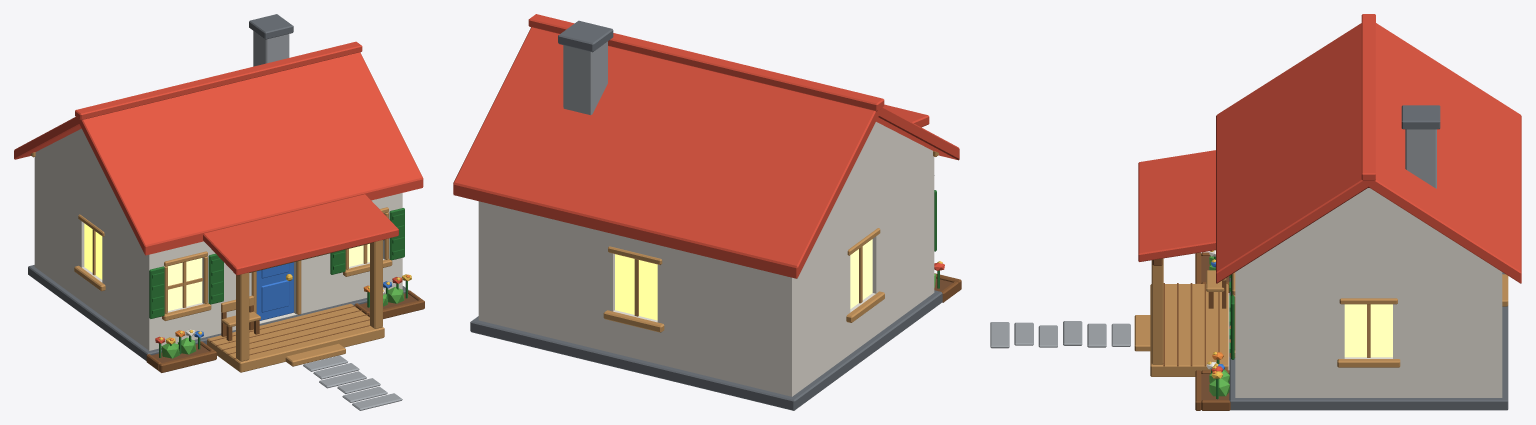
File: cozy-starter-house.glb
3 views of the same model, side by side, from view 1: azimuth 30°, elevation 25°; view 2: azimuth 150°, elevation 25°; view 3: azimuth 270°, elevation 25° (orthographic). The views are drawn at different scales.
Parts seen in each view (by area): view 1: Roof, Walls, PorchRoof, PorchDeck, RoofRidge, Gable, Foundation, WindowL_Glass, PorchPostL, PorchPostR, Chimney, Door (+16 smaller); view 2: Roof, Walls, Foundation, RoofRidge, Gable, Chimney, WindowBack_Glass, ChimneyCap, WindowSideL_Glass, WindowBack_Sill; view 3: Roof, Walls, Gable, PorchRoof, PorchDeck, Foundation, RoofRidge, WindowSideR_Glass, Chimney, PorchPostR, ChimneyCap, PorchStep (+4 smaller).
Boxes of the visible parts, left/top/right/bottom form: Roof: left=14, top=52, right=423, bottom=255; Walls: left=34, top=154, right=402, bottom=350; PorchRoof: left=203, top=194, right=398, bottom=275; PorchDeck: left=207, top=303, right=384, bottom=372; RoofRidge: left=75, top=41, right=362, bottom=120; Gable: left=35, top=128, right=127, bottom=220; Foundation: left=28, top=265, right=408, bottom=360; WindowL_Glass: left=168, top=258, right=202, bottom=310; PorchPostL: left=236, top=272, right=249, bottom=361; PorchPostR: left=370, top=240, right=382, bottom=328; Chimney: left=253, top=31, right=289, bottom=66; Door: left=256, top=262, right=293, bottom=320; Roof: left=453, top=27, right=959, bottom=278; Walls: left=478, top=153, right=934, bottom=396; Foundation: left=470, top=290, right=942, bottom=410; RoofRidge: left=528, top=14, right=884, bottom=111; Gable: left=819, top=122, right=932, bottom=235; Chimney: left=563, top=41, right=607, bottom=115; WindowBack_Glass: left=615, top=254, right=657, bottom=320; ChimneyCap: left=558, top=20, right=613, bottom=52; WindowSideL_Glass: left=850, top=239, right=872, bottom=308; WindowBack_Sill: left=603, top=310, right=664, bottom=332; Roof: left=1216, top=23, right=1521, bottom=283; Walls: left=1235, top=265, right=1502, bottom=397; Gable: left=1246, top=188, right=1490, bottom=265; PorchRoof: left=1138, top=150, right=1215, bottom=261; PorchDeck: left=1150, top=284, right=1228, bottom=376; Foundation: left=1229, top=272, right=1508, bottom=410; RoofRidge: left=1361, top=14, right=1375, bottom=180; WindowSideR_Glass: left=1344, top=304, right=1392, bottom=357; Chimney: left=1405, top=129, right=1436, bottom=188; PorchPostR: left=1151, top=258, right=1163, bottom=364; ChimneyCap: left=1401, top=105, right=1440, bottom=129; PorchStep: left=1134, top=315, right=1150, bottom=351.
Bounding box in the file's own units: 31.2 × 24.2 × 43.8.
